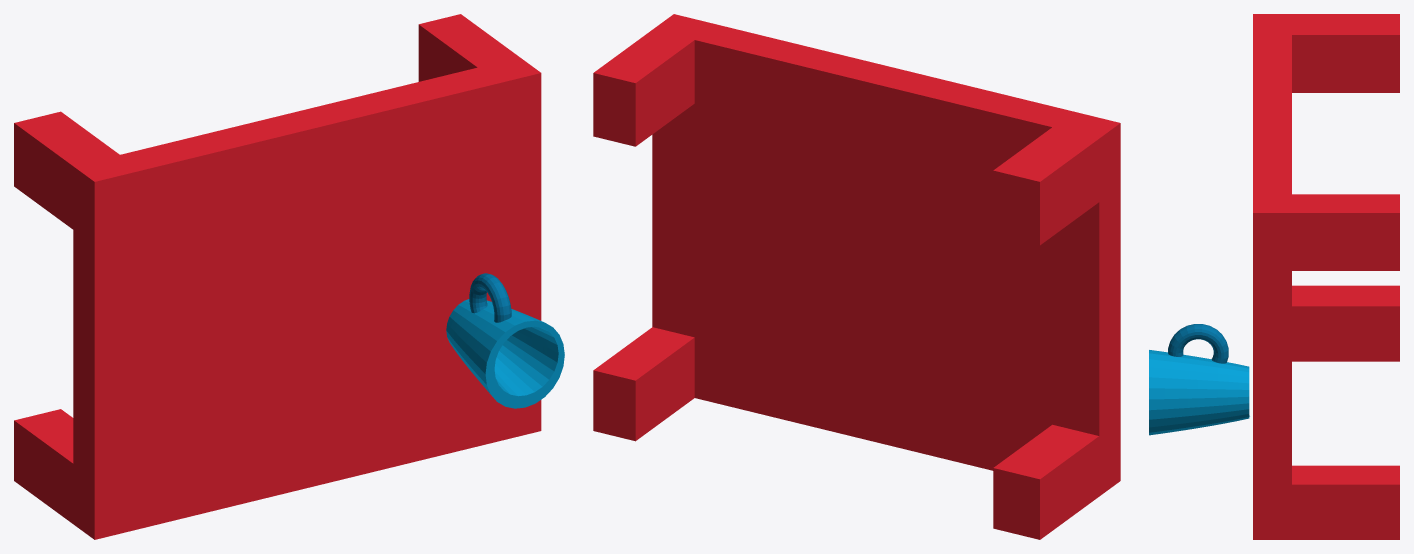
Rendered from tinker.obj.
The picture shows the model from 3 angles, left to right: view 1: azimuth 30°, elevation 25°; view 2: azimuth 150°, elevation 25°; view 3: azimuth 270°, elevation 25°; orthographic projection. The views are drawn at different scales.
Visible parts, largest first — view 1: group_0_15277357, group_0_40919, group_0_30377; view 2: group_0_15277357; view 3: group_0_15277357, group_0_40919, group_0_30377.
Boxes of the visible parts, bbox=[...] form: group_0_15277357: bbox=[14, 14, 541, 539]; group_0_40919: bbox=[446, 299, 564, 408]; group_0_30377: bbox=[469, 273, 511, 322]; group_0_15277357: bbox=[593, 14, 1120, 539]; group_0_15277357: bbox=[1253, 14, 1399, 539]; group_0_40919: bbox=[1149, 350, 1249, 435]; group_0_30377: bbox=[1168, 324, 1228, 363].
Bounding box in the file's own units: 107 × 81.95 × 57.
